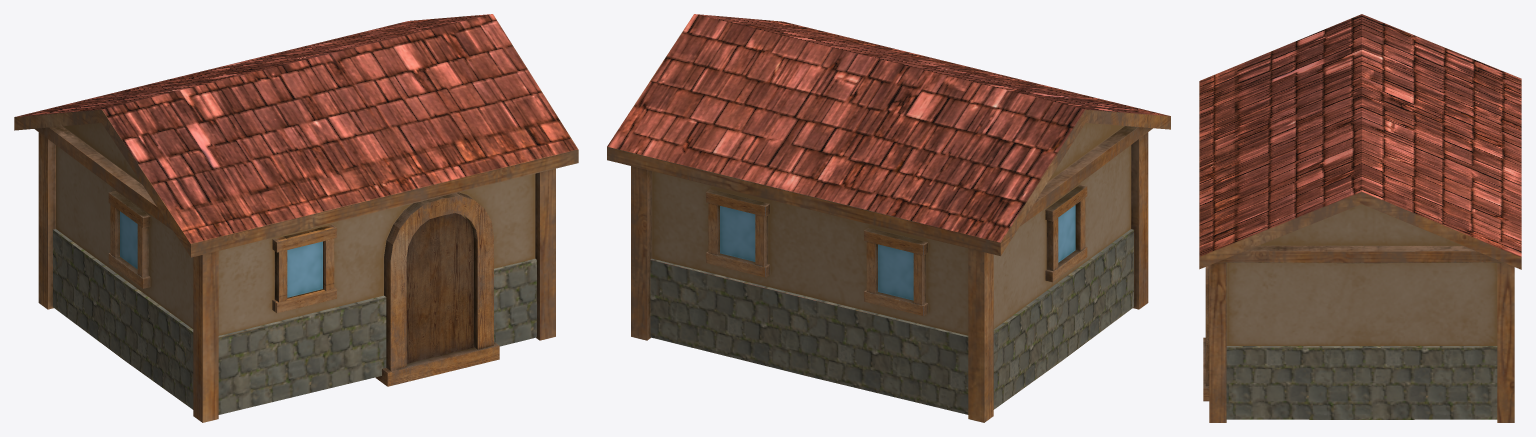
Rendered from simple_medieval_style_house.glb.
3 views of the same model, side by side, from view 1: azimuth 30°, elevation 25°; view 2: azimuth 150°, elevation 25°; view 3: azimuth 270°, elevation 25° (orthographic). The views are drawn at different scales.
Visible parts, largest first — view 1: VH2; view 2: VH2; view 3: VH2.
Part boxes in pixels (x1,y1,x2,y2): VH2: [14, 14, 578, 422]; VH2: [607, 14, 1170, 422]; VH2: [1199, 14, 1521, 422].
Size of the model in its own units: 6.27 by 4.01 by 4.78.
3 materials, 3 textured.
